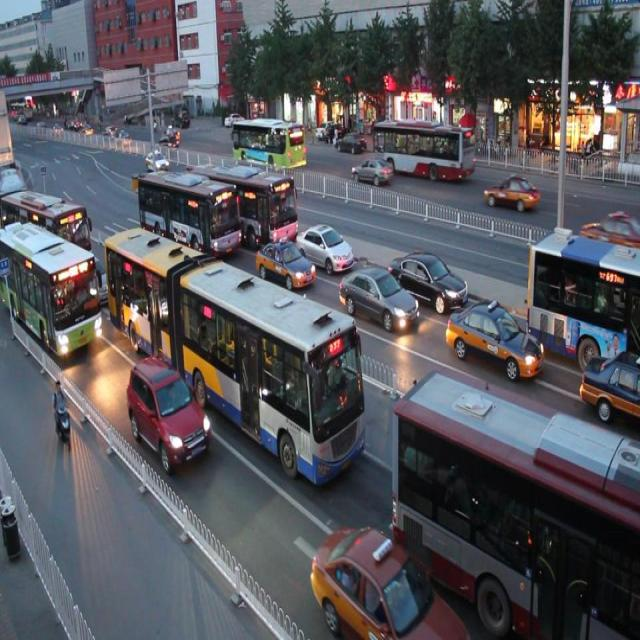car: (312, 518, 462, 640), (126, 356, 211, 471), (446, 294, 544, 382), (337, 258, 416, 331), (390, 243, 468, 309), (578, 348, 640, 419), (253, 230, 314, 289), (294, 214, 352, 273), (67, 256, 114, 309)
van: (102, 218, 366, 482), (392, 374, 640, 640), (524, 230, 640, 359), (1, 216, 102, 359), (136, 160, 240, 262), (191, 153, 298, 248), (1, 182, 90, 272)
